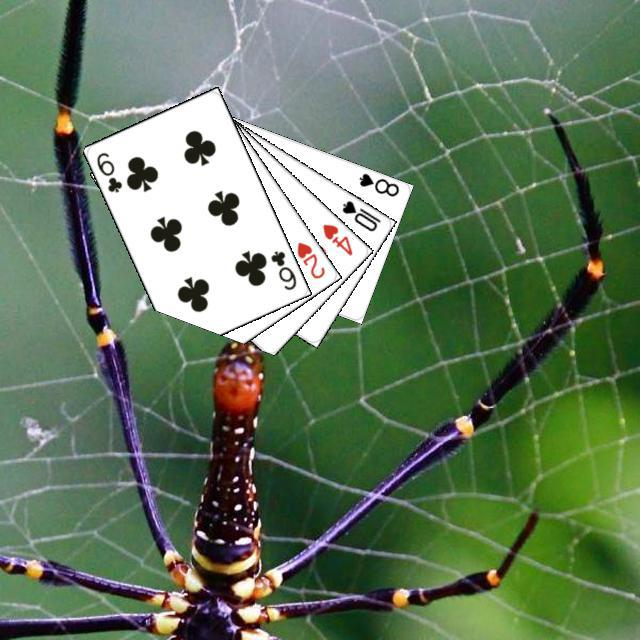10s: (337, 195, 383, 233)
2h: (292, 237, 327, 281)
4h: (318, 219, 354, 257)
6c: (92, 147, 124, 195), (266, 246, 298, 292)
8s: (354, 168, 401, 198)
